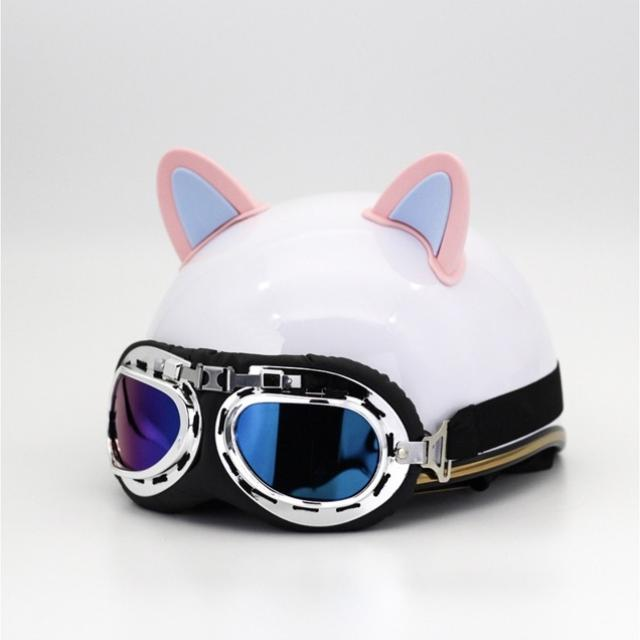Helmet: (98, 137, 572, 536)
